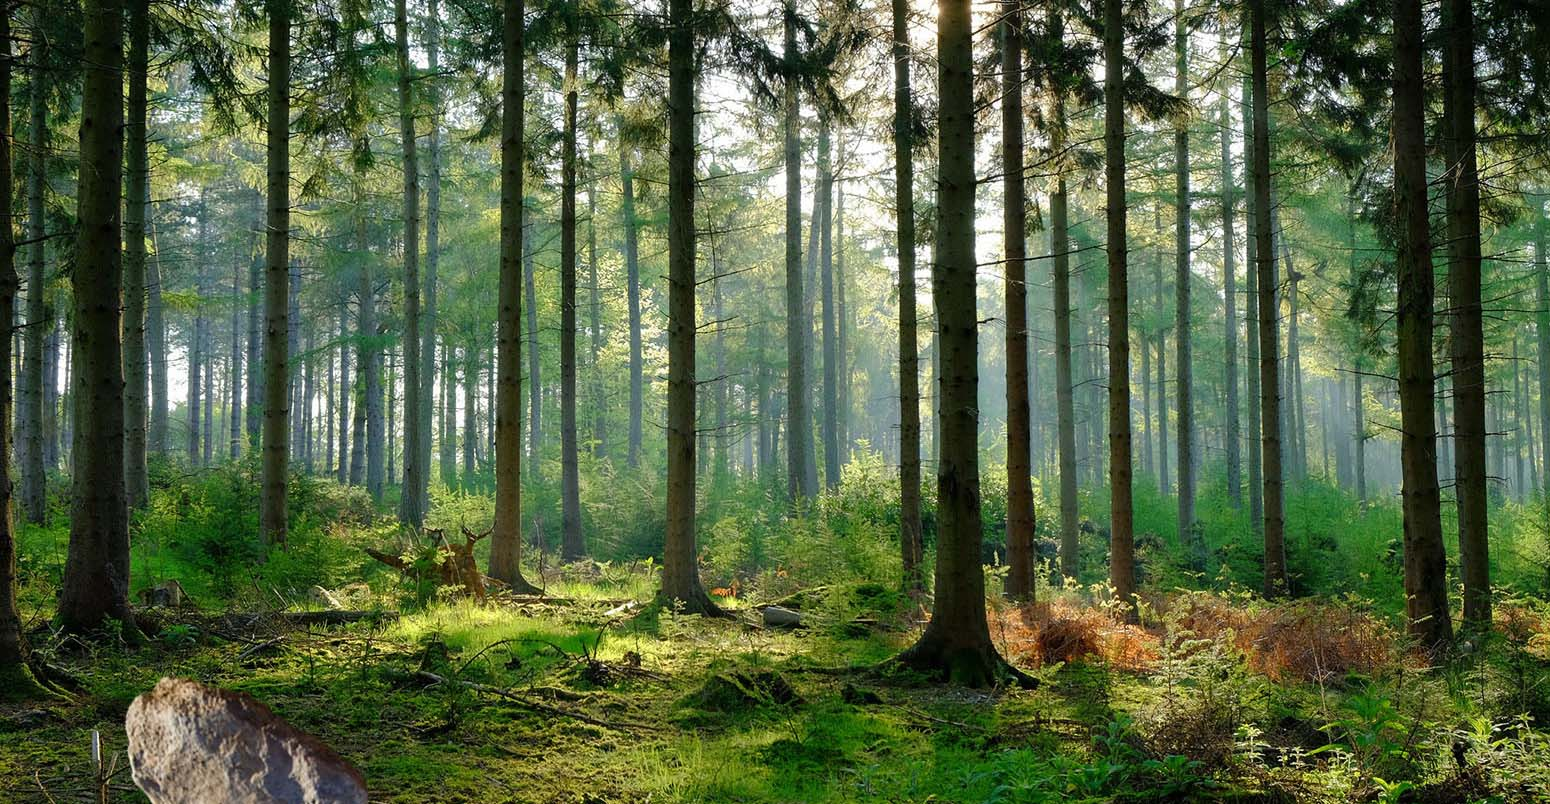Rocks: (112, 670, 364, 804)
